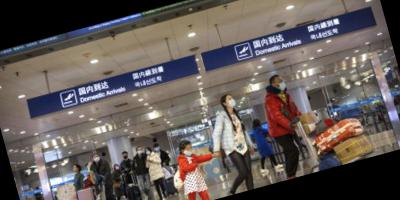mask_weared_incorrect: (182, 146, 194, 158)
with_mask: (275, 77, 288, 92), (225, 96, 238, 110), (93, 155, 102, 164), (137, 148, 144, 156), (145, 149, 152, 156), (154, 146, 161, 153), (123, 153, 129, 160), (115, 165, 120, 170)
without_mask: (72, 166, 79, 174)
